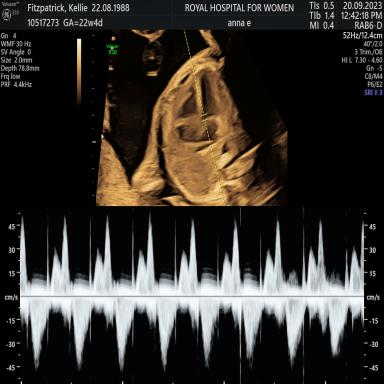Ultrasound-Waves: (25, 208, 363, 384)
